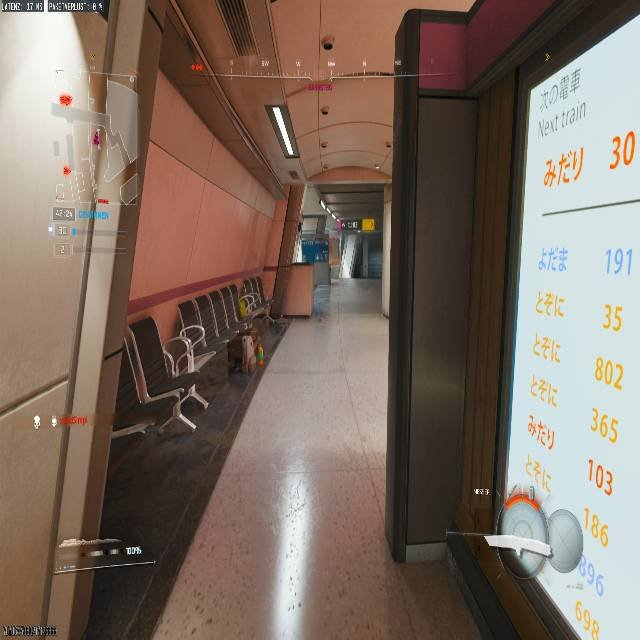player: (483, 484, 611, 639)
